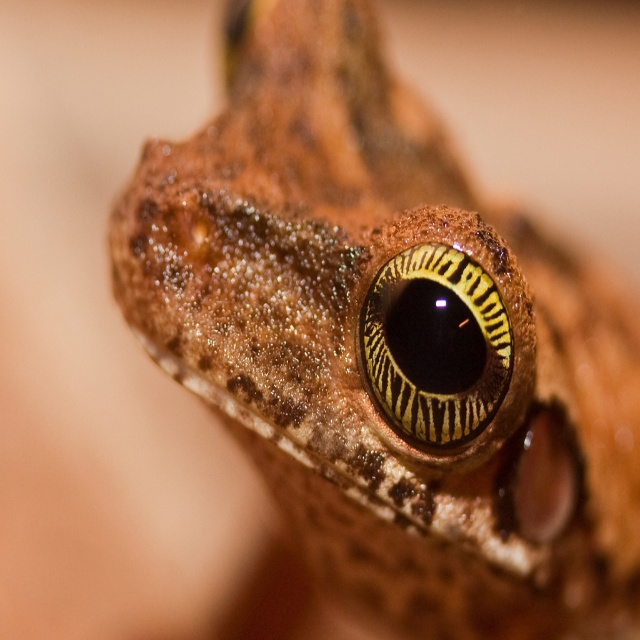Lizard: (108, 1, 640, 639)
